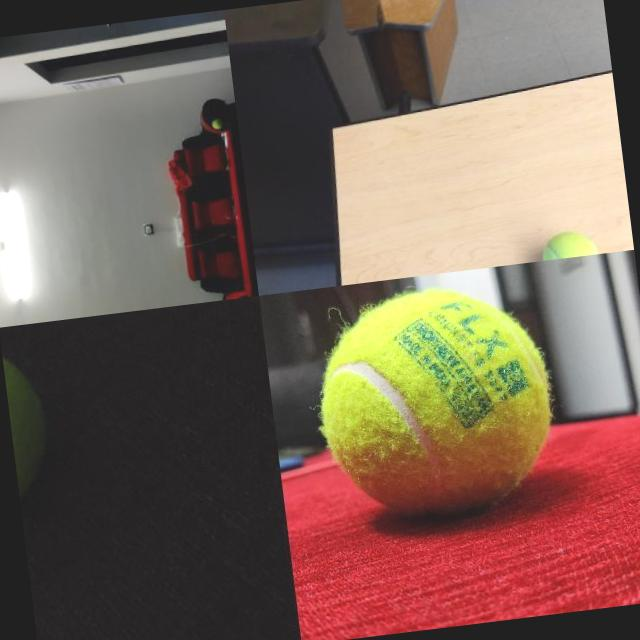Tennis Ball: (302, 272, 569, 532), (537, 227, 599, 260), (210, 118, 222, 128)
